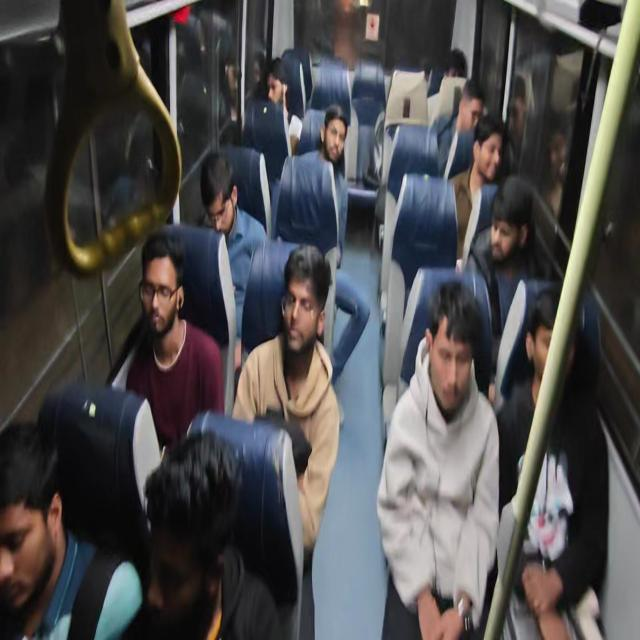person: (0, 437, 117, 636), (166, 462, 282, 640), (120, 222, 225, 394), (422, 281, 509, 480), (195, 146, 282, 265), (423, 48, 501, 168), (278, 251, 344, 366), (474, 151, 546, 252), (526, 291, 576, 388), (260, 38, 309, 122), (310, 98, 351, 172), (450, 75, 494, 129), (477, 120, 514, 184)
